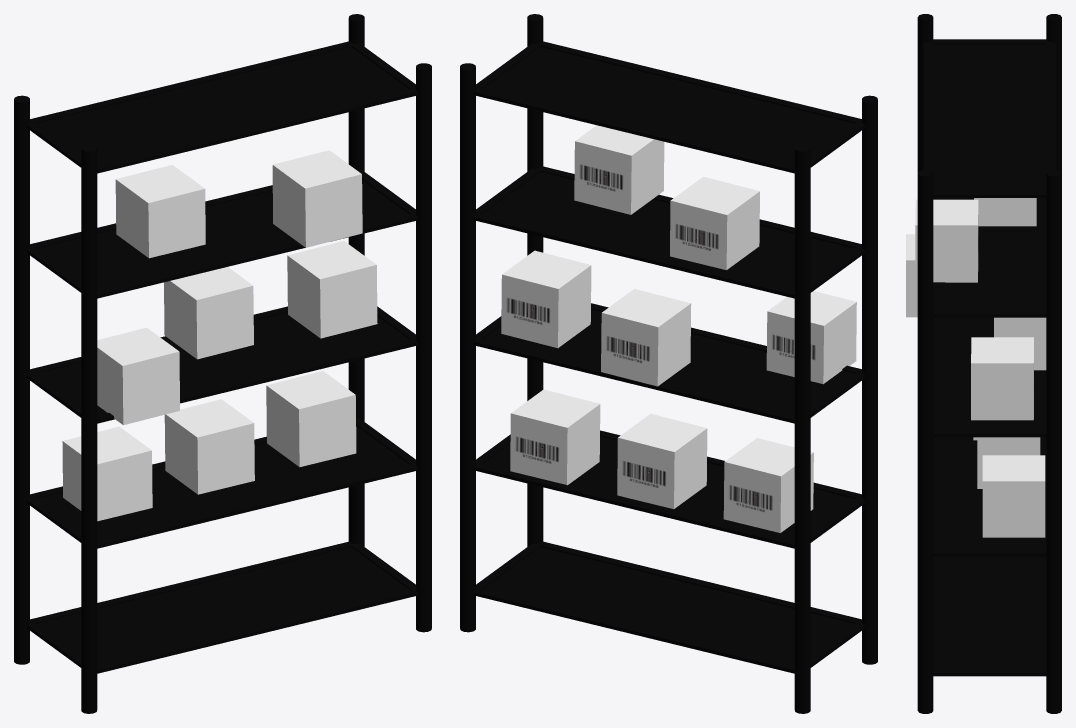
File: shelf.obj
The picture shows the model from 3 angles, left to right: view 1: azimuth 30°, elevation 25°; view 2: azimuth 150°, elevation 25°; view 3: azimuth 270°, elevation 25°; orthographic projection. The views are drawn at different scales.
Visible parts, largest first — view 1: eb_metal_shelf_01, Cube.007, Cube.005, Cube, Cube.001, Cube.006, Cube.004, Cube.003, Cube.002; view 2: eb_metal_shelf_01, Cube.005, Cube.004, Cube, Cube.001, Cube.006, Cube.007, Cube.002, Cube.003; view 3: eb_metal_shelf_01, Cube, Cube.005, Cube.007, Cube.006, Cube.004, Cube.001, Cube.003.
Boxes of the visible parts, x1,y1,x2,y2 form: eb_metal_shelf_01: [14, 14, 431, 713]; Cube.007: [272, 150, 362, 247]; Cube.005: [287, 241, 377, 338]; Cube: [266, 371, 356, 467]; Cube.001: [164, 399, 254, 494]; Cube.006: [115, 164, 205, 258]; Cube.004: [164, 267, 253, 359]; Cube.003: [97, 327, 179, 425]; Cube.002: [62, 426, 152, 521]; eb_metal_shelf_01: [460, 14, 877, 713]; Cube.005: [501, 250, 591, 348]; Cube.004: [601, 289, 691, 386]; Cube: [510, 389, 600, 485]; Cube.001: [617, 413, 707, 509]; Cube.006: [670, 176, 759, 270]; Cube.007: [574, 125, 664, 214]; Cube.002: [723, 438, 813, 532]; Cube.003: [766, 291, 856, 384]; eb_metal_shelf_01: [917, 14, 1061, 713]; Cube: [982, 455, 1045, 537]; Cube.005: [971, 337, 1033, 420]; Cube.007: [915, 199, 978, 282]; Cube.006: [974, 198, 1036, 226]; Cube.004: [994, 317, 1046, 370]; Cube.001: [977, 437, 1040, 488]; Cube.003: [906, 234, 917, 317].
Size of the model in its own units: 52.02 by 80.26 by 21.09.
Materials: 2 (1 with a texture image).
